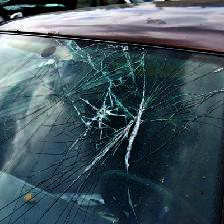glass_shatter: (28, 35, 223, 223)
